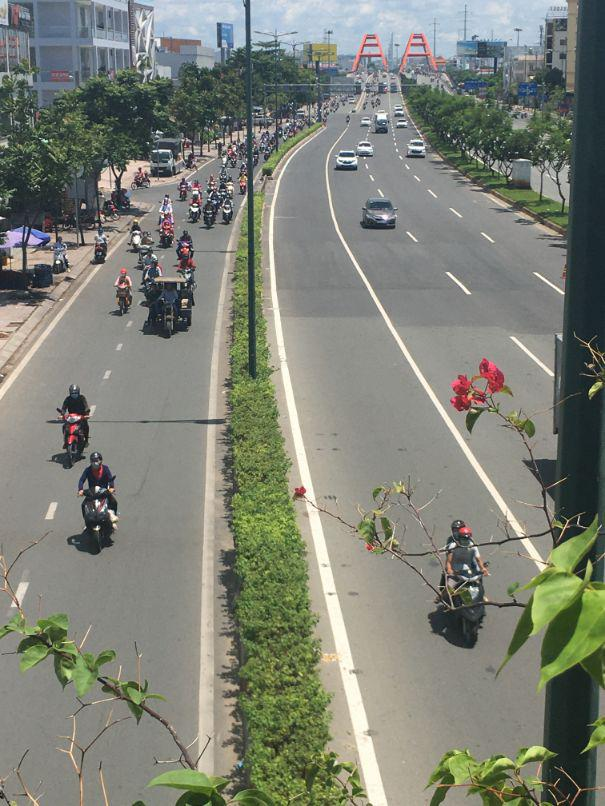car: (362, 195, 399, 229), (338, 151, 358, 173), (374, 114, 391, 134), (408, 143, 427, 160), (392, 108, 407, 129), (356, 143, 373, 158)
motorbike: (430, 547, 489, 646), (140, 280, 188, 340), (77, 487, 120, 552), (49, 417, 91, 472), (112, 282, 134, 316), (93, 234, 108, 262)
truck: (150, 136, 187, 181)
